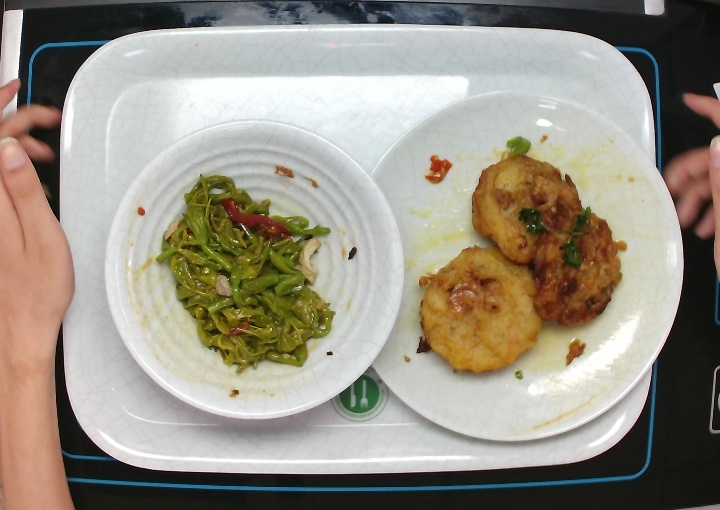JYsf-Da_Yuan_Pan: (362, 86, 687, 446)
JYsf-Xiao_Tang_Wan: (100, 116, 409, 424)
